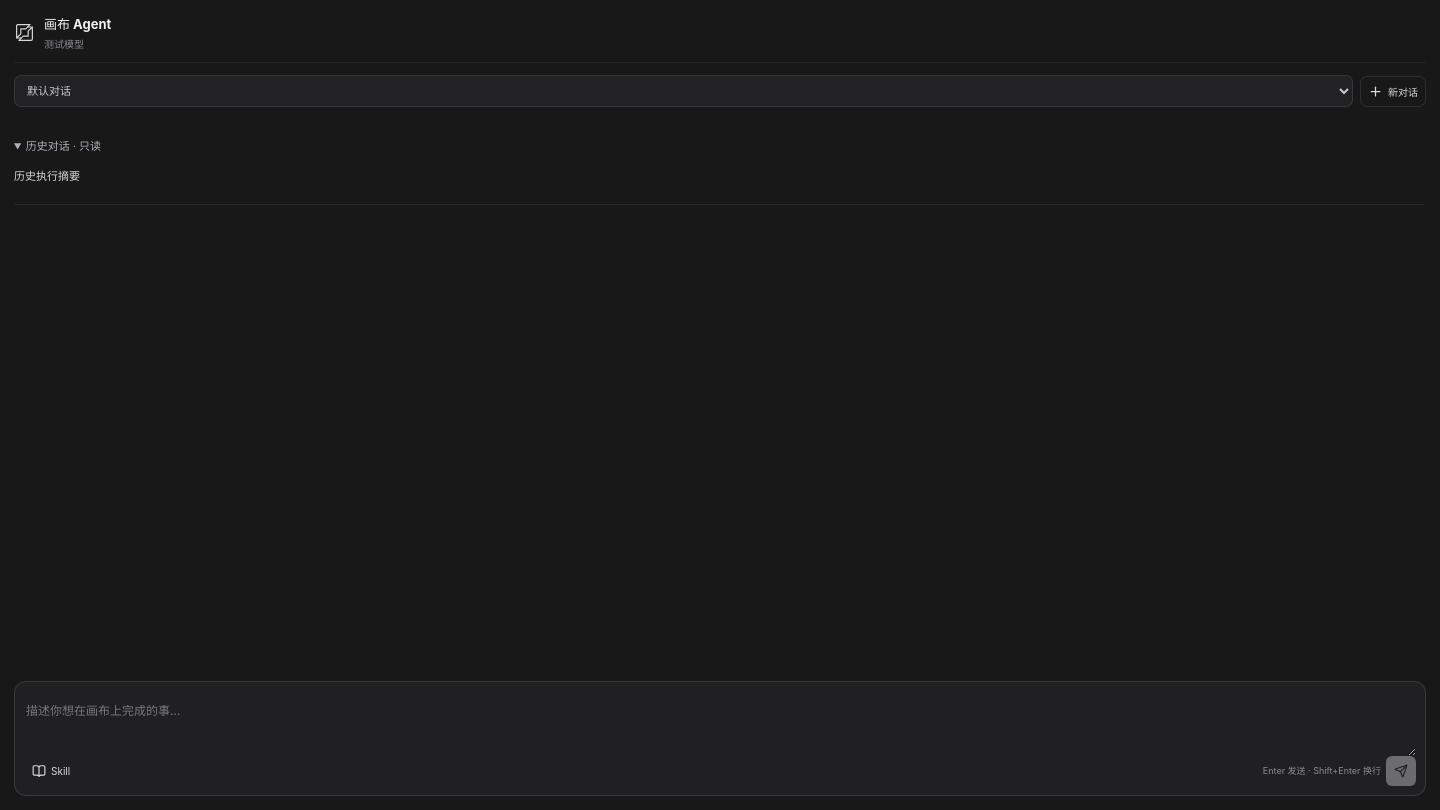
Test case: AgentSidebarPanel backend runs › reads legacy summaries without thought chains or old rollback and lists real skills
Expected: the text "历史执行摘要" is shown, x1=14 y1=169 x2=80 y2=183
Click the button with aria-label "查看可用技能". click: [51, 771]
box: x1=24 y1=758 x2=78 y2=784
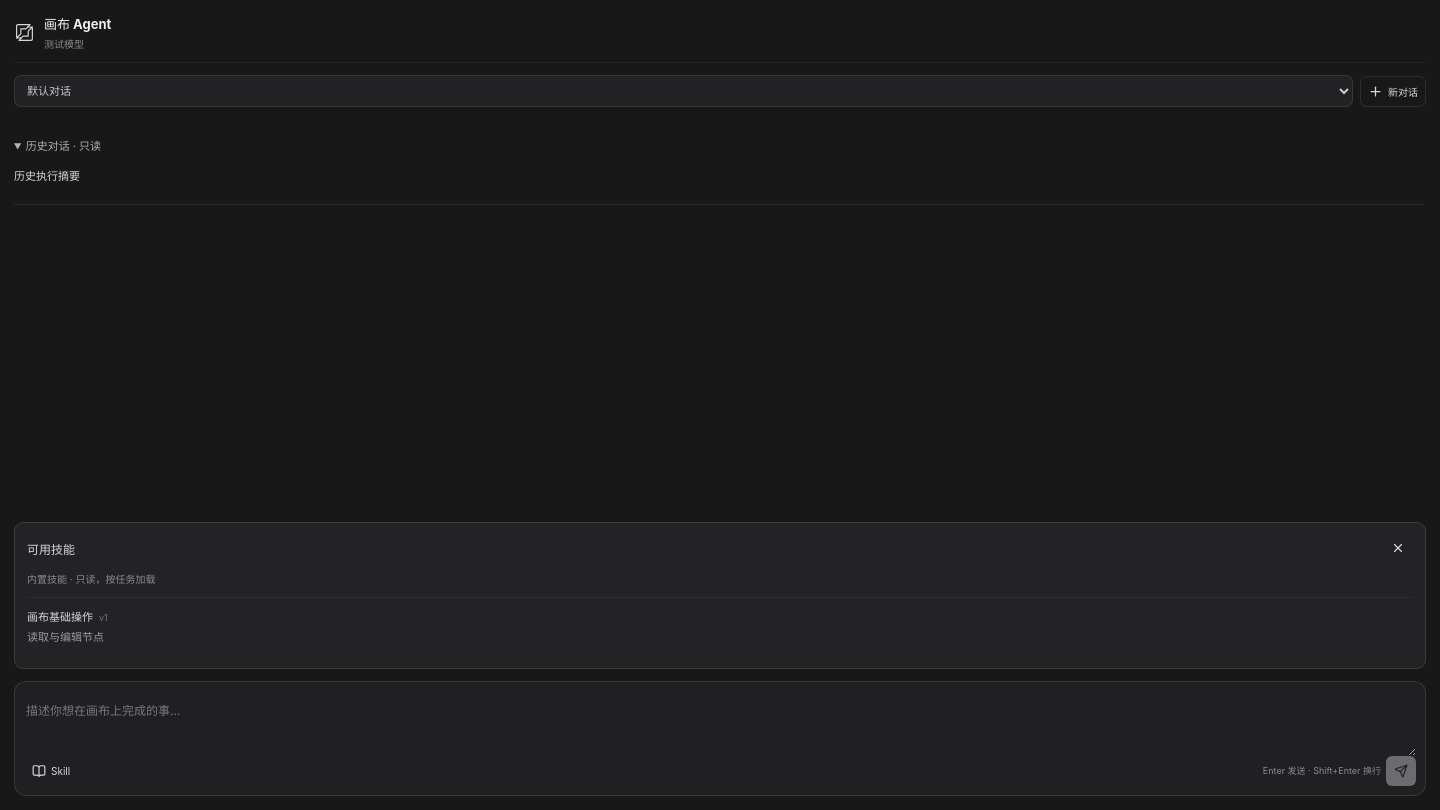
Expected: the text "画布基础操作" is shown, x1=27 y1=610 x2=93 y2=624
Expected: the text "读取与编辑节点" is shown, x1=27 y1=630 x2=104 y2=644
